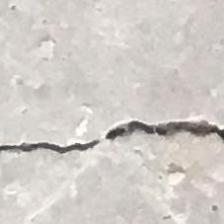Crack: (0, 113, 224, 173)
